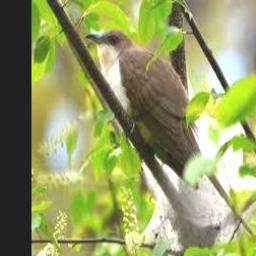Cuckoo: (85, 29, 254, 235)
